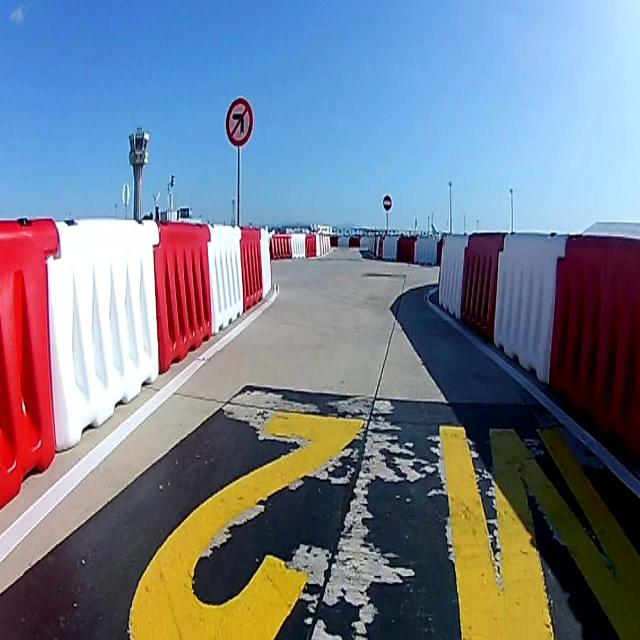soladonulmez: (225, 98, 253, 146)
